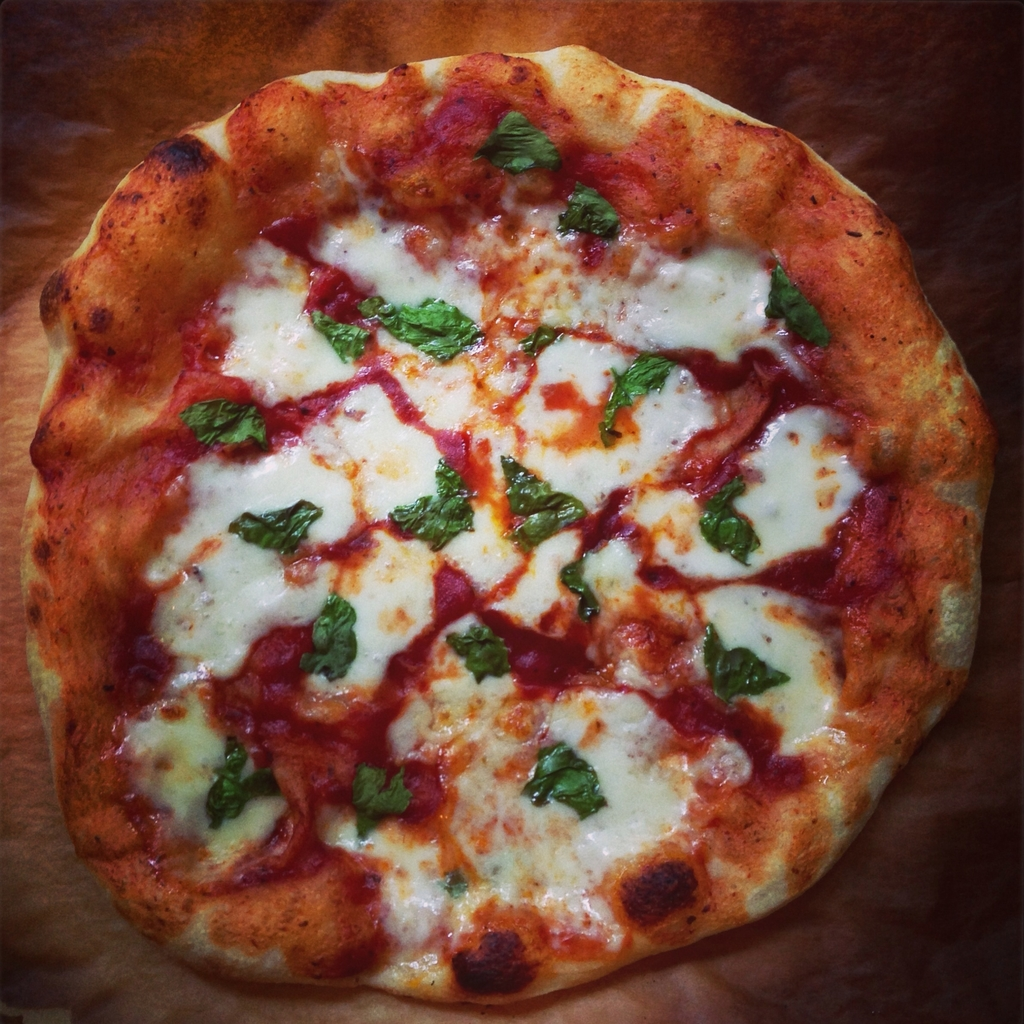pizza: (12, 45, 993, 998)
